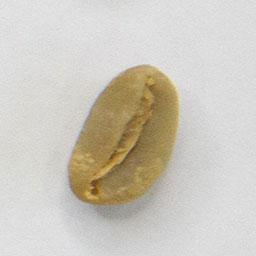longberry: (63, 61, 181, 208)
